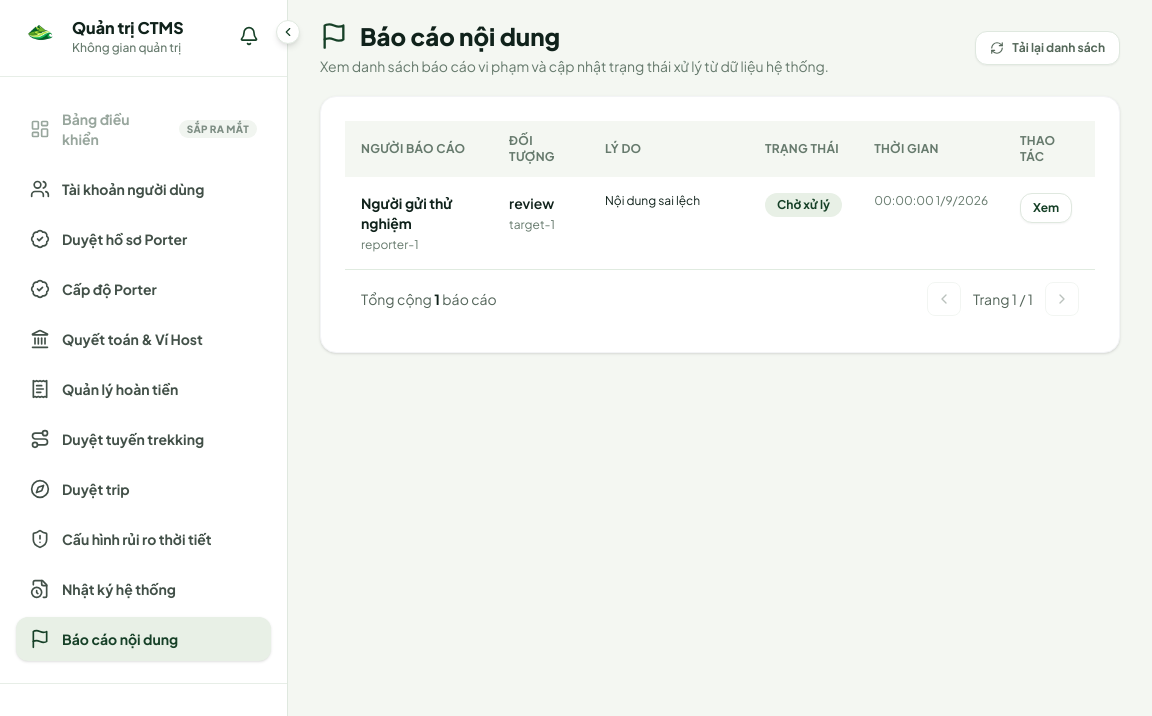
Test: Content Reports Admin UI › sends authoritative expectedStatus for pending -> reviewing and refreshes both reads
Click the button "Xem". click: (1046, 208)
box: x1=1020 y1=193 x2=1072 y2=223
(page scrolled)
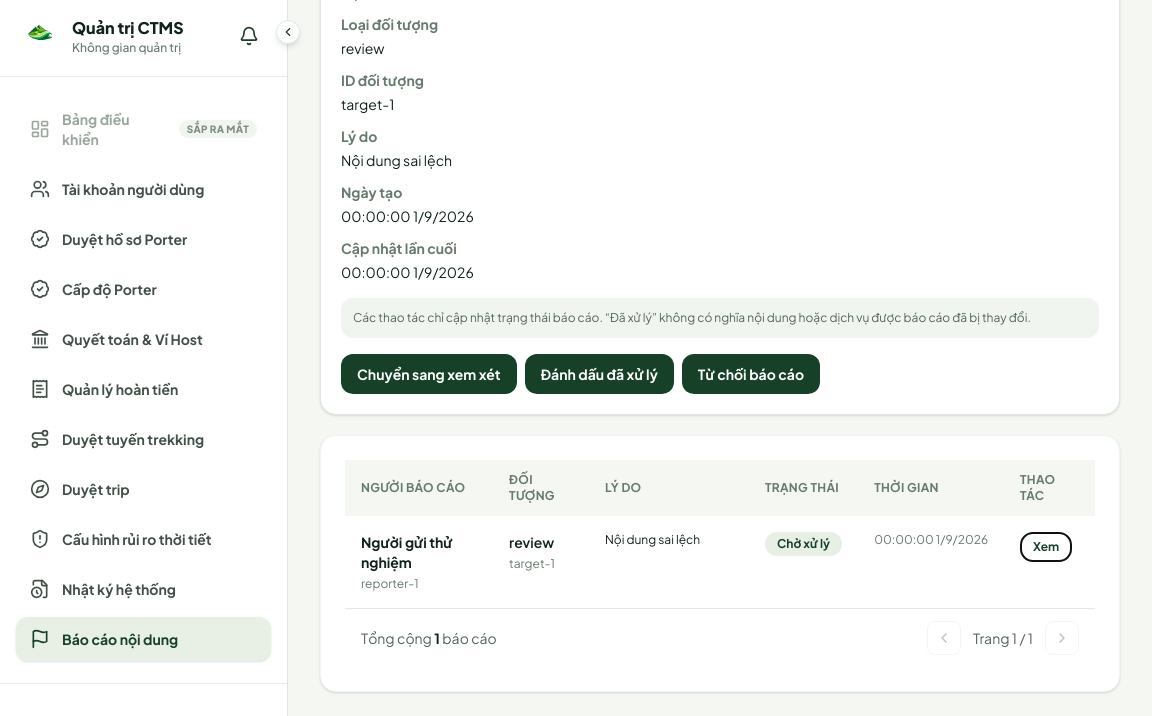
Check: the text "Nội dung sai lệch" below "ID đối tượng" is shown, box x1=341 y1=151 x2=452 y2=169
Click the button "Chuyển sang xem xét". click: (429, 374)
box: x1=341 y1=354 x2=517 y2=394
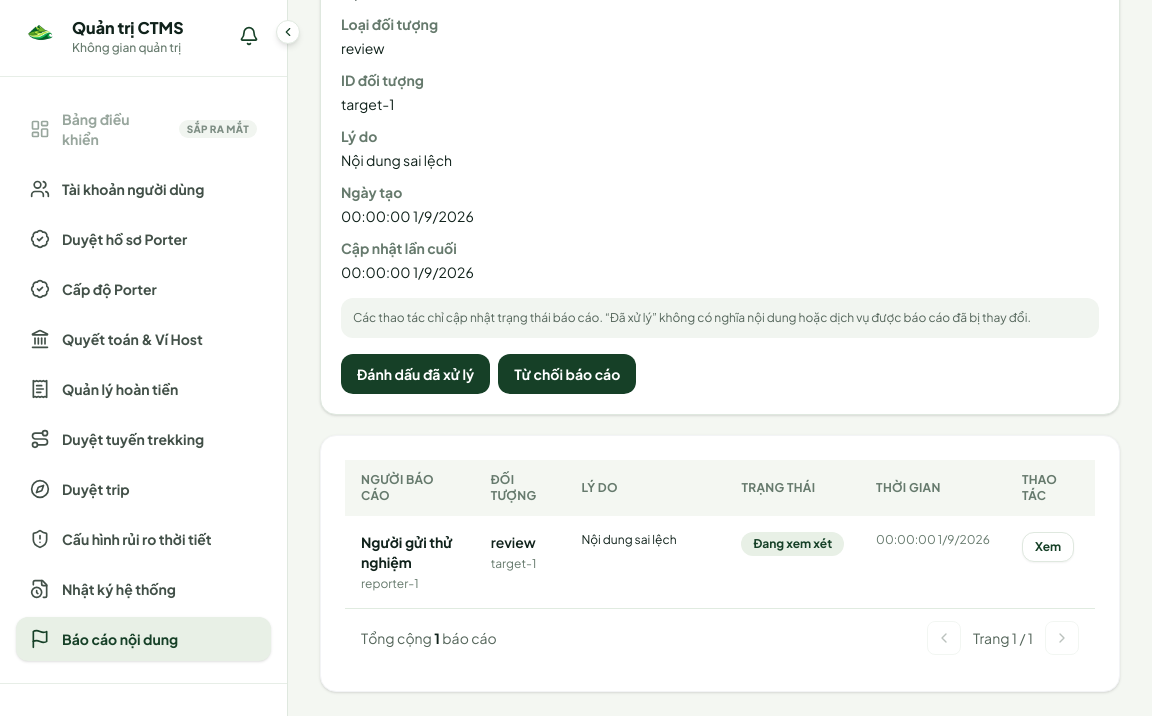
Check: the button "Chuyển sang xem xét" is gone
